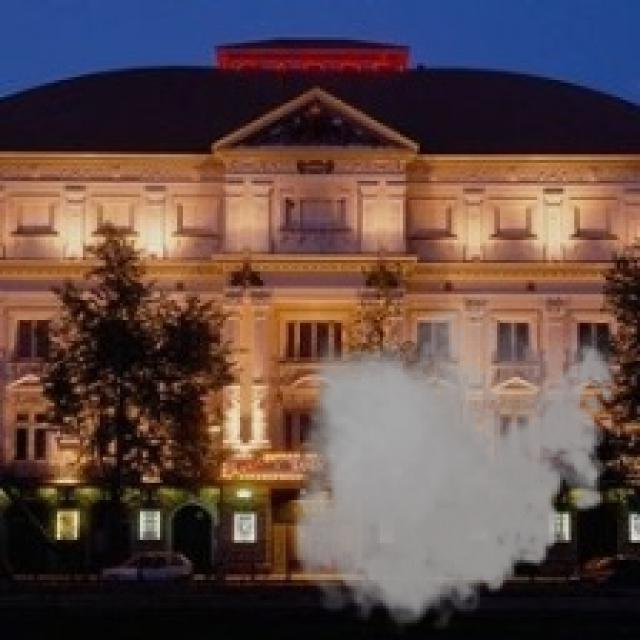Smoke: (280, 288, 626, 638)
